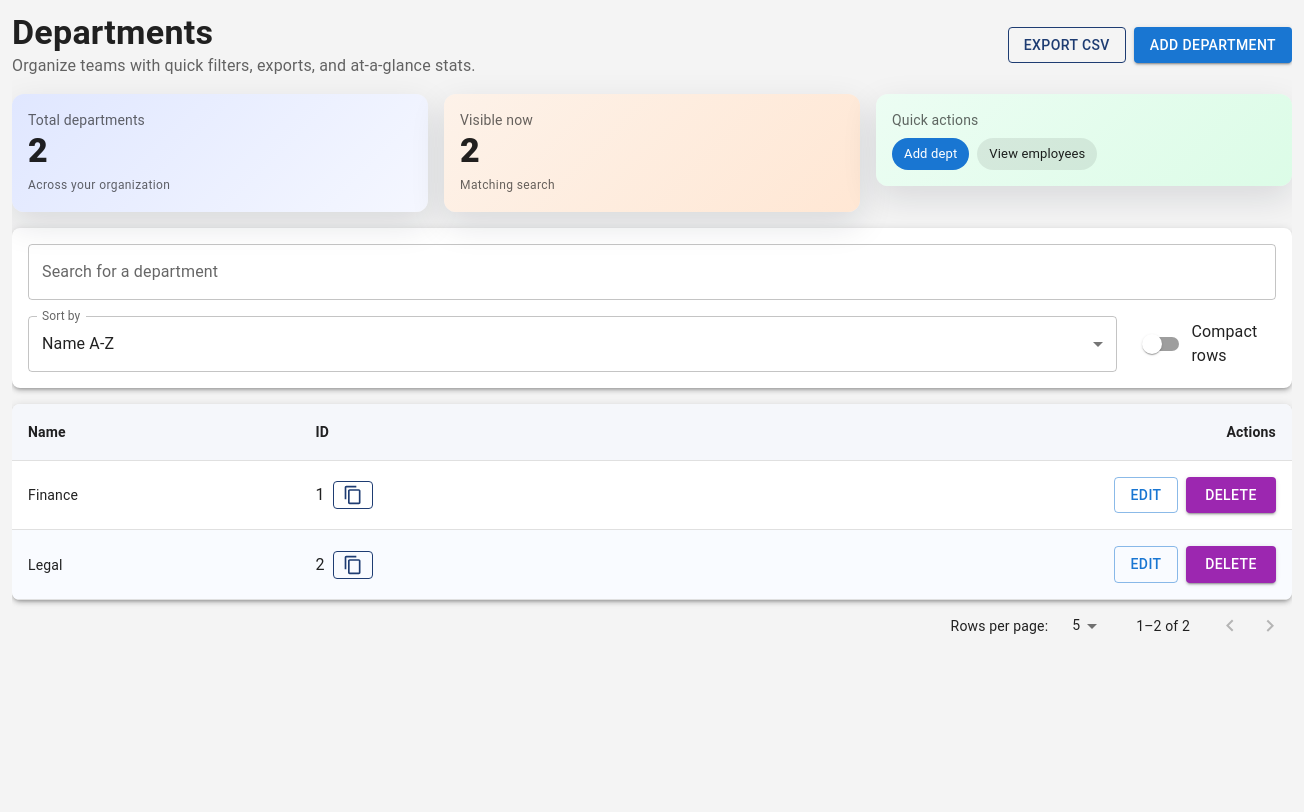
<DepartmentList /> › deletes a department when Delete is clicked
Expected: the text "Finance" is shown, [12,460,300,530]
Click the button "Delete" in the row of "Finance". click: {"x": 1231, "y": 495}
box: [1186,477,1276,514]
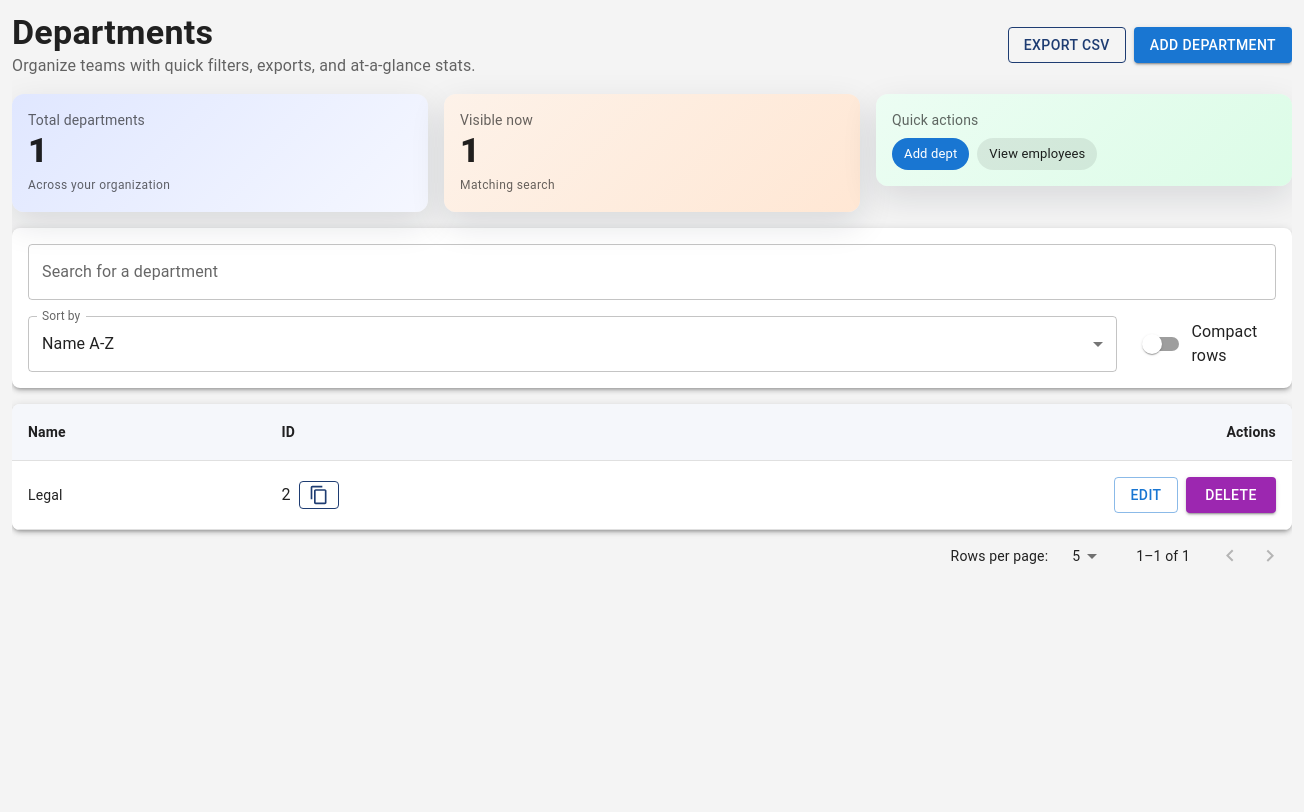
Expected: the text "Legal" is shown, [12,460,265,530]
Now the text "Finance" is gone
